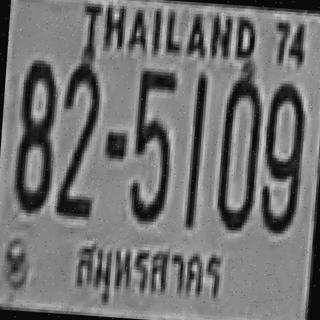N00: (261, 79, 305, 180)
N08: (14, 56, 59, 212)
N09: (257, 94, 304, 232), (257, 108, 303, 232)
P58: (61, 226, 230, 315)
